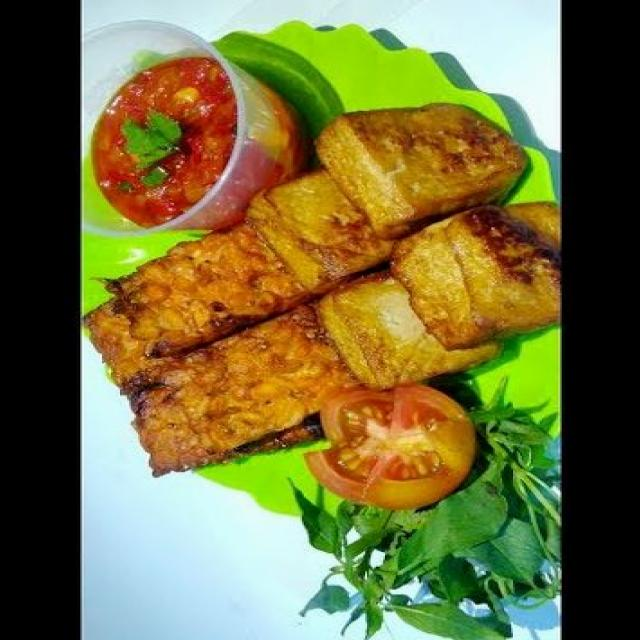tahu goreng: (315, 101, 532, 241), (389, 207, 559, 352), (319, 267, 487, 387), (251, 172, 395, 284)
